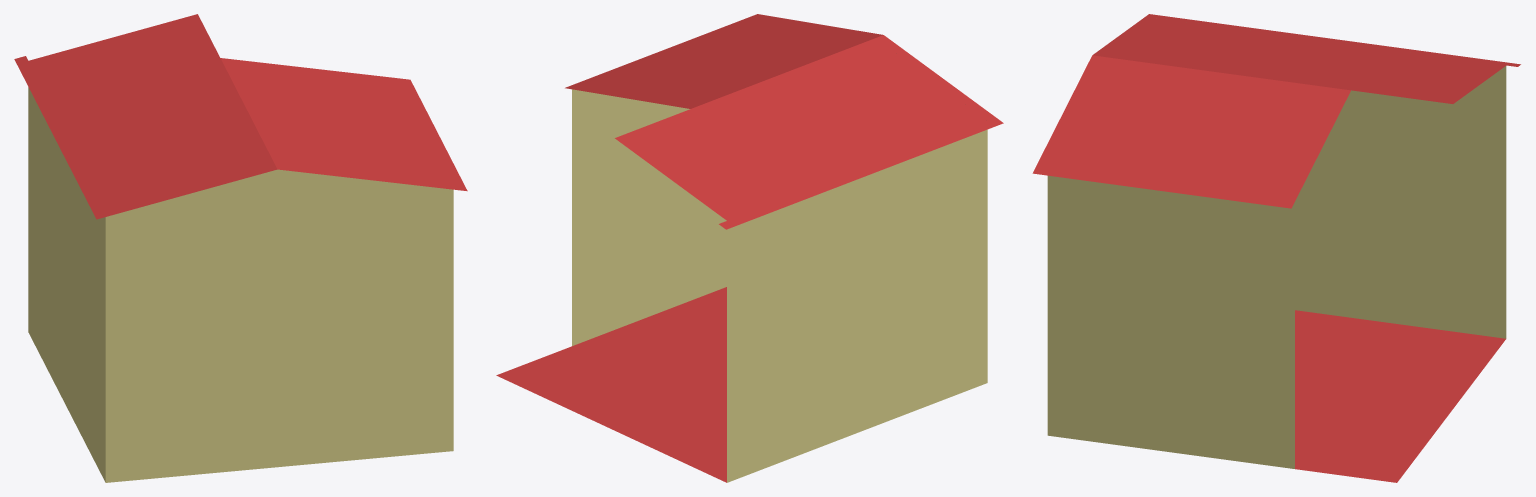
3 renders of one model, left to right at view 1: azimuth 30°, elevation 25°; view 2: azimuth 150°, elevation 25°; view 3: azimuth 270°, elevation 25°, orthographic. The views are drawn at different scales.
Bounding box in the file's own units: 9.76 × 10.2 × 7.01.
